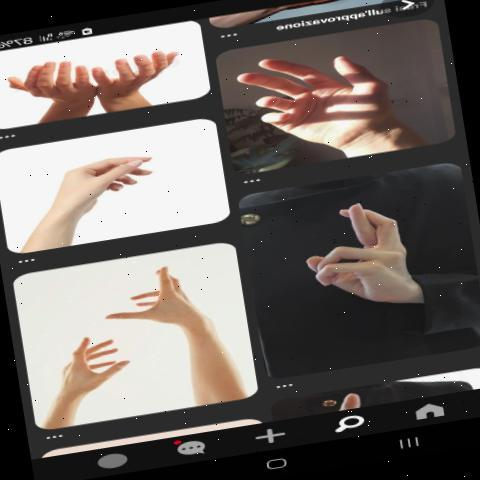Hands: (229, 20, 403, 177), (277, 188, 435, 330), (40, 126, 181, 232), (102, 253, 216, 346), (39, 325, 147, 421), (89, 26, 183, 114), (5, 28, 100, 115)
